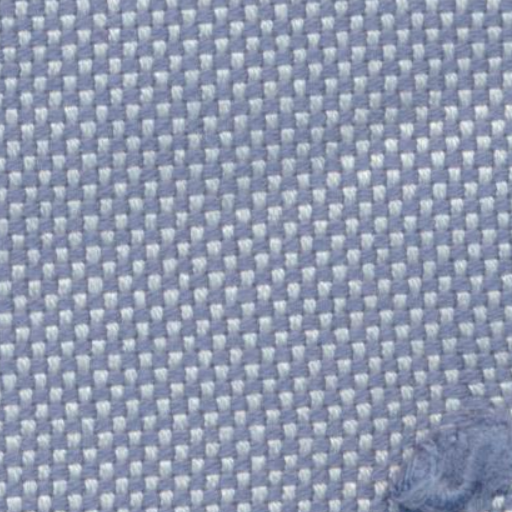MianQiu: (353, 386, 506, 509)
